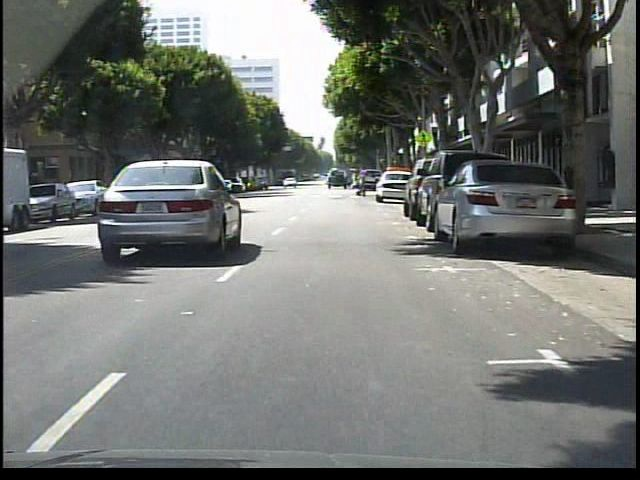person: (354, 168, 368, 197)
